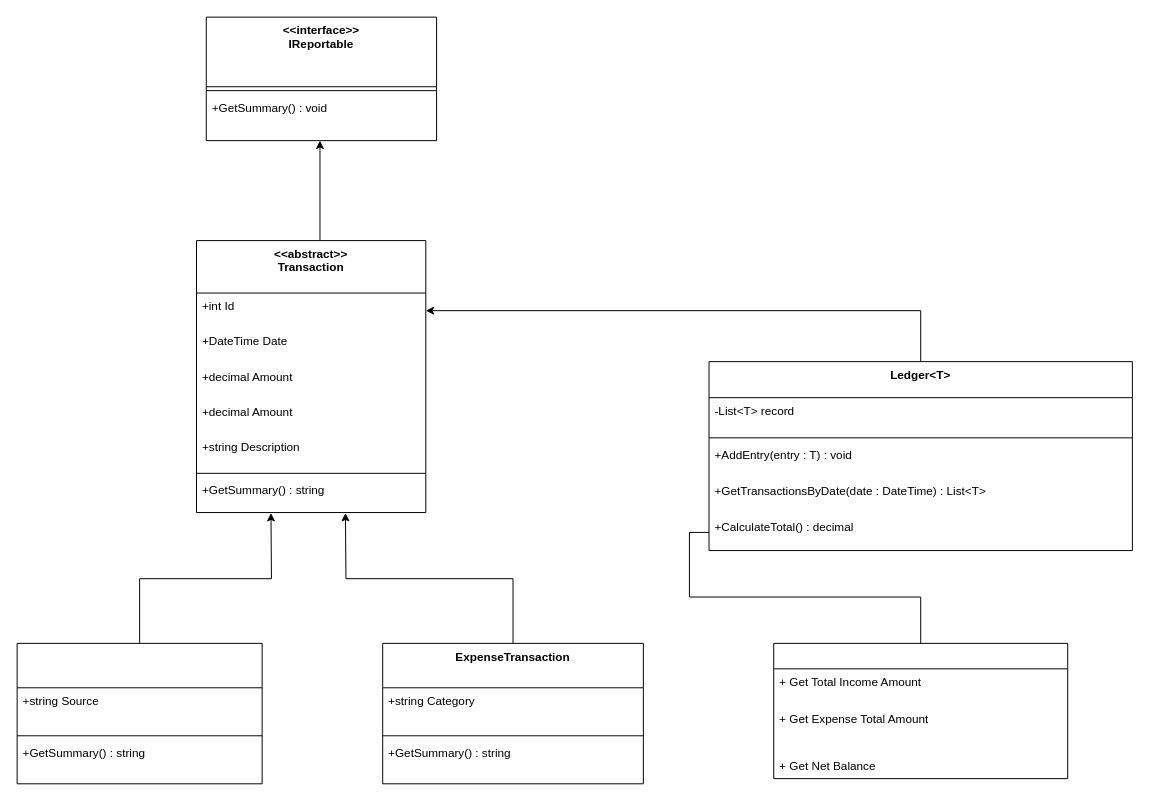
Some shapes in this 1150 by 804 pixel diagram are drawn without their labels. The box of each missing label's shape, as (x1, y1, x2, y2) in pixels:
IncomeTransaction: (16, 642, 262, 784)
Util Class: (773, 642, 1068, 779)
